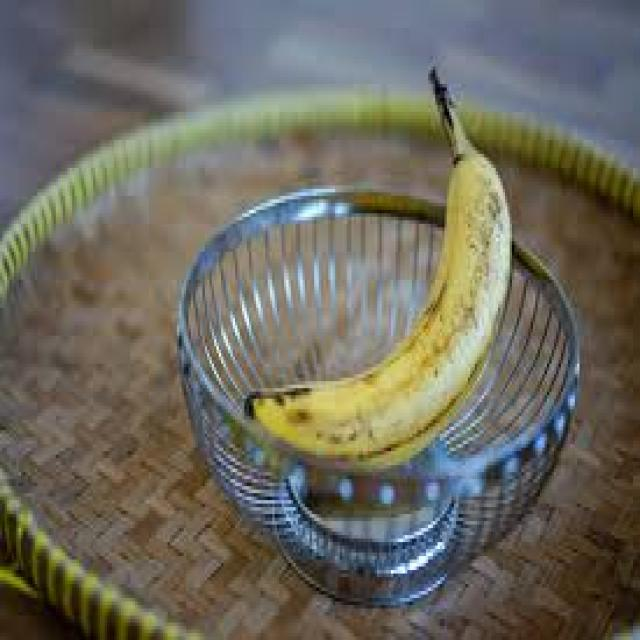pisang: (240, 108, 520, 472)
